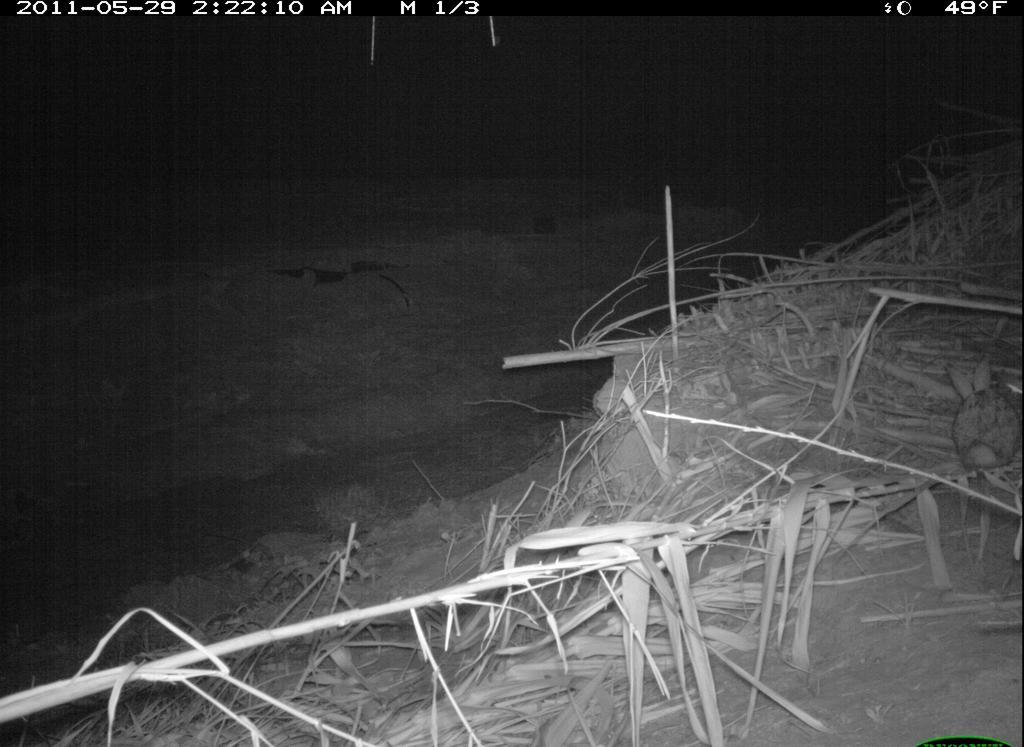rabbit: (949, 345, 1023, 484)
